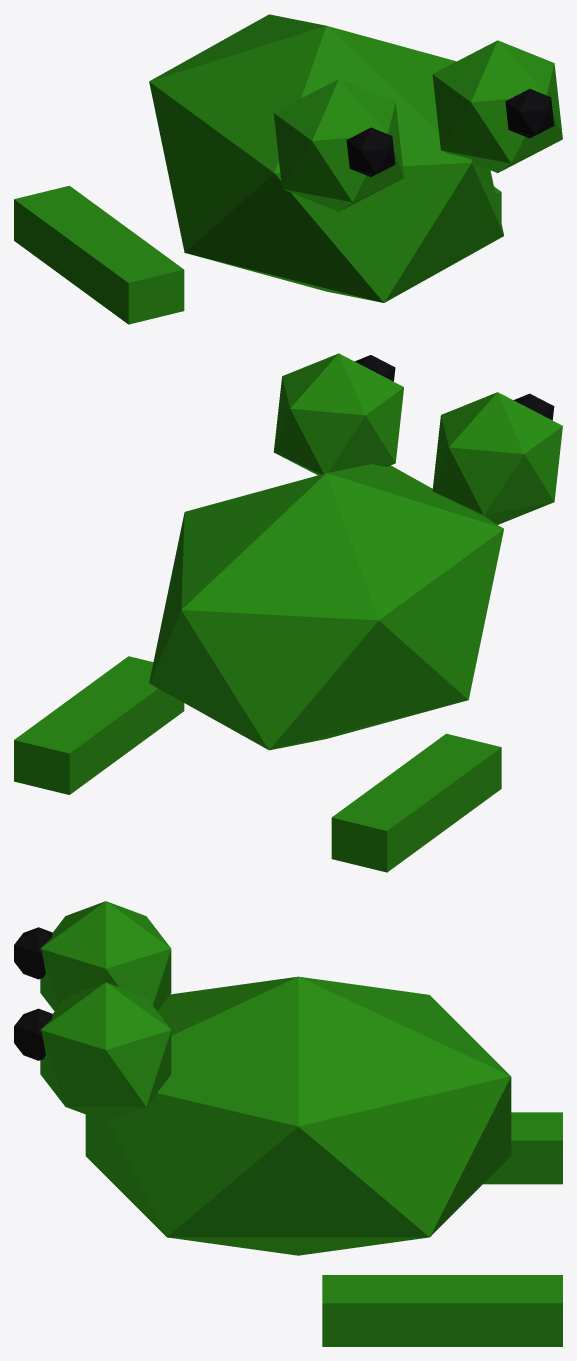
Rendered from frog.obj.
The picture shows the model from 3 angles, top to bottom: view 1: azimuth 30°, elevation 25°; view 2: azimuth 150°, elevation 25°; view 3: azimuth 270°, elevation 25°; orthographic projection. The views are drawn at different scales.
Parts seen in each view (by area): view 1: frog; view 2: frog; view 3: frog.
Boxes of the visible parts, bbox=[...] form: frog: bbox=[14, 14, 562, 324]; frog: bbox=[14, 353, 562, 872]; frog: bbox=[14, 901, 562, 1346].
Size of the model in its own units: 0.47 by 0.36 by 0.5705.
